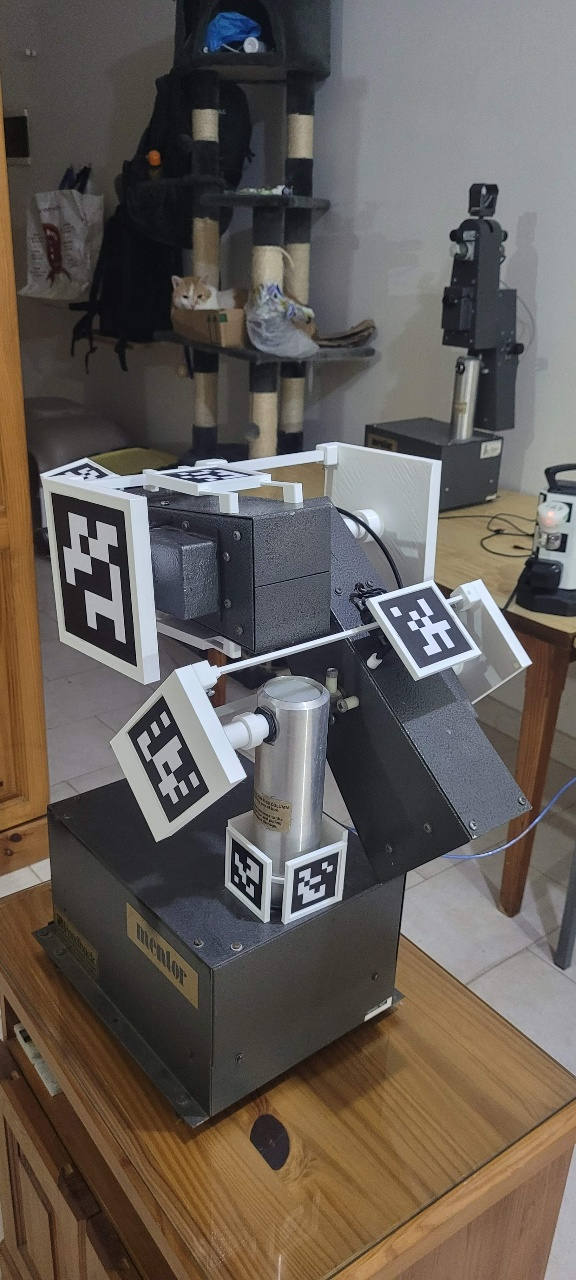Robot: (37, 455, 536, 928)
